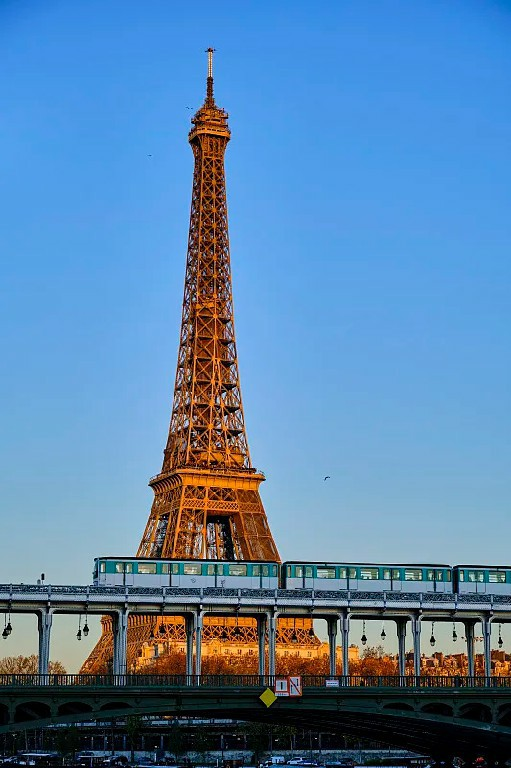Eiffel: (71, 49, 335, 680)
